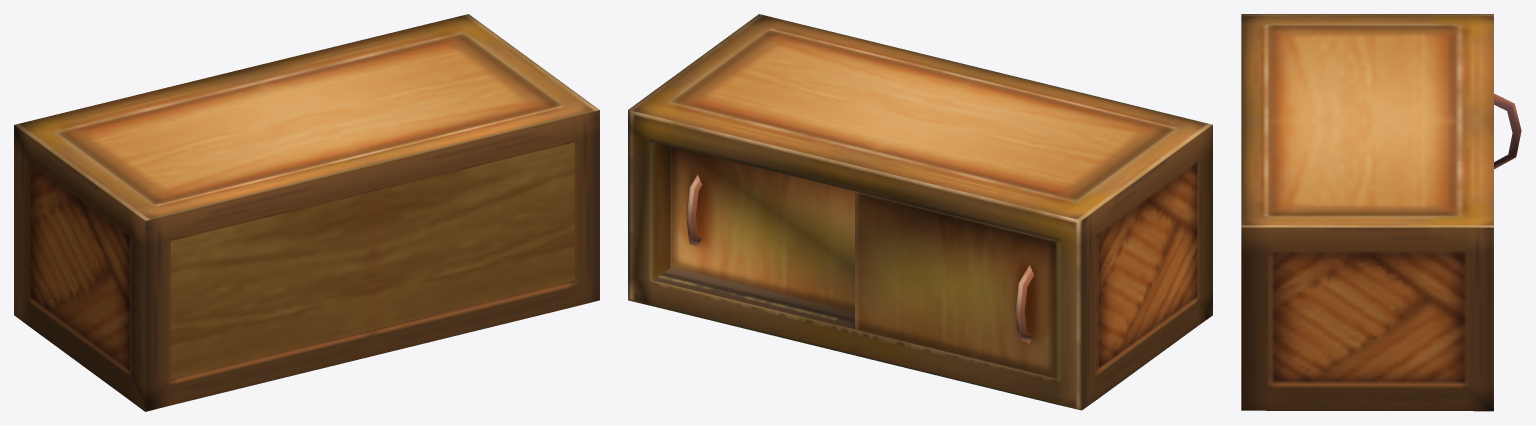
The model's file is a_SWGcase02a.glb.
3 views of the same model, side by side, from view 1: azimuth 30°, elevation 25°; view 2: azimuth 150°, elevation 25°; view 3: azimuth 270°, elevation 25° (orthographic). The views are drawn at different scales.
Parts seen in each view (by area): view 1: a_SWGcase02a; view 2: a_SWGcase02a; view 3: a_SWGcase02a.
Boxes of the visible parts, x1,y1,x2,y2 form: a_SWGcase02a: (14,14,599,411); a_SWGcase02a: (628,14,1212,410); a_SWGcase02a: (1241,14,1521,411).
Bounding box in the file's own units: 2 × 0.8059 × 1.11.
Materials: 1 (1 with a texture image).
